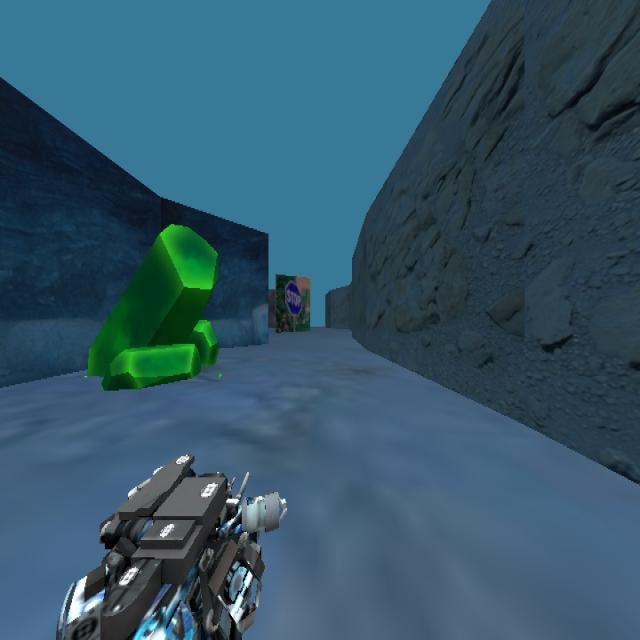Diamon: (84, 221, 220, 391)
Stop_Sign: (275, 272, 310, 332), (284, 279, 302, 316)
